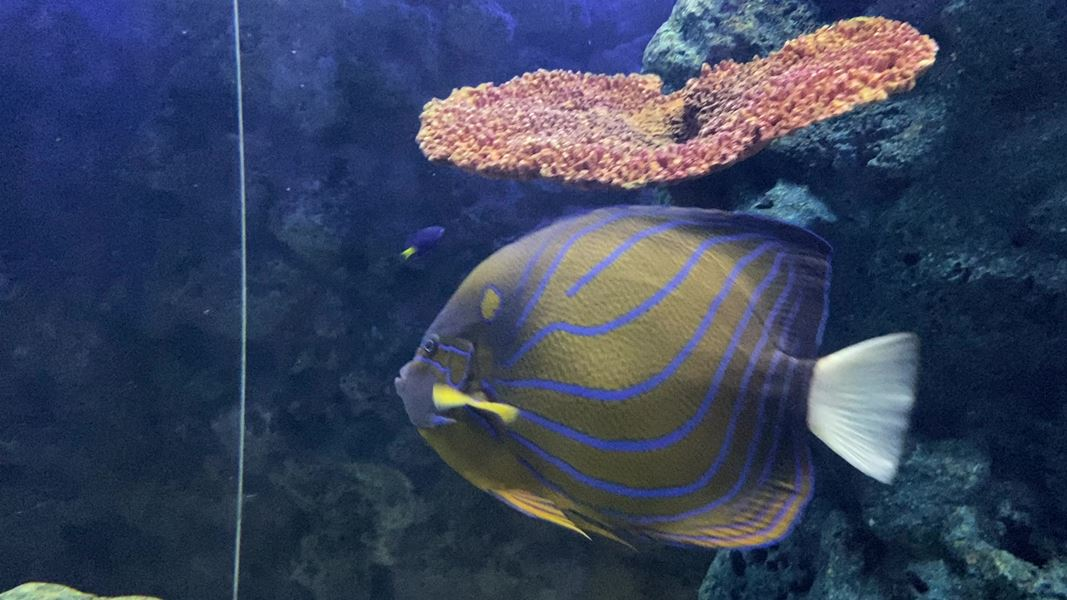Blue ring angelfish: (378, 203, 935, 557)
